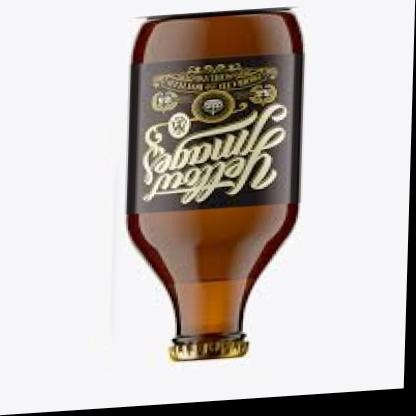trash: (127, 9, 302, 360)
